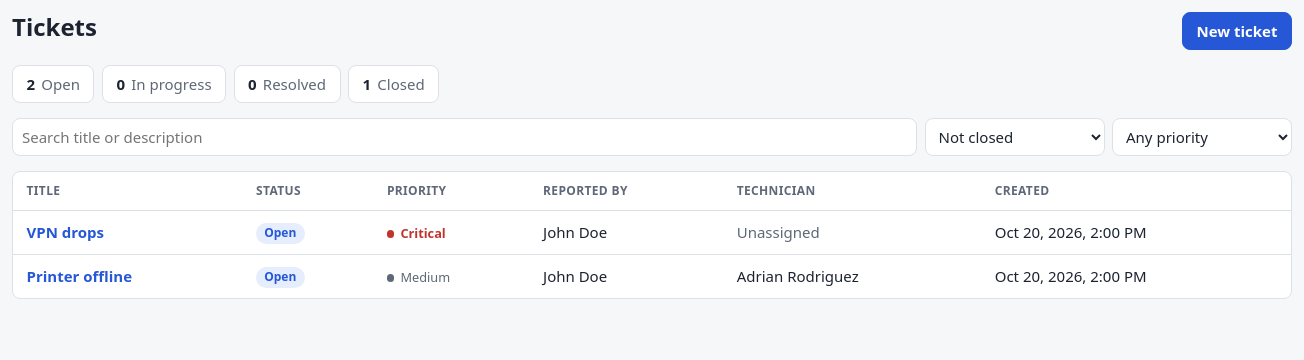
Test: TicketsPage › shows closed tickets when asked, and filters by search
The image size is (1304, 360).
Check: the link "VPN drops" is shown, box left=26, top=222, right=104, bottom=242
Select "Any status" in the dropdown named "Status" at (1014,137), box left=924, top=118, right=1104, bottom=156
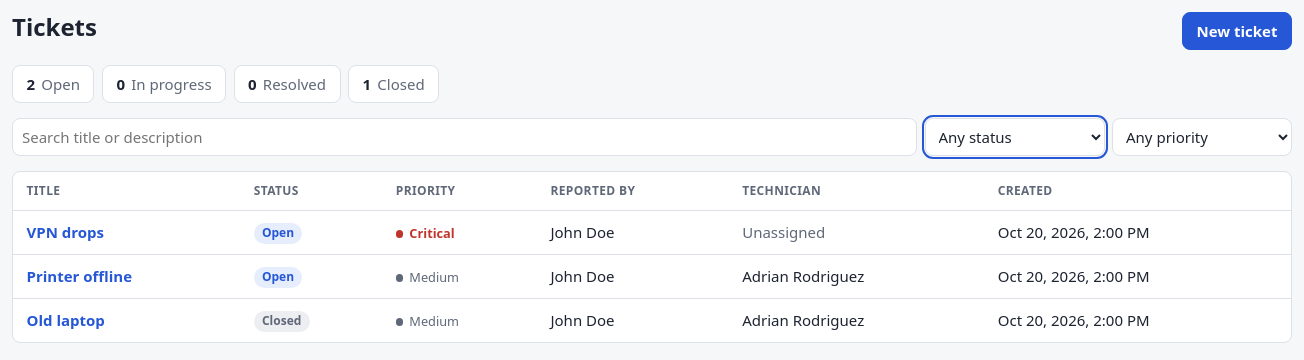
Check: the number of links is 3, box left=26, top=222, right=104, bottom=242; left=26, top=266, right=132, bottom=286; left=26, top=310, right=105, bottom=330
Type "every hour" into the search field named "Search tickets".
click(464, 137); type("every hour")  # box left=12, top=118, right=917, bottom=156
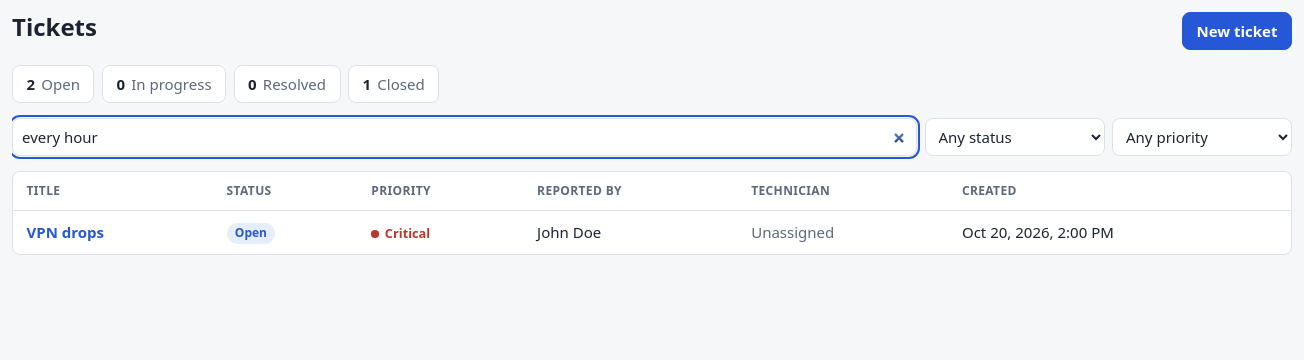
Replace the text in the search field named "Search tickets" with "nothing like this" at (464,137), box left=12, top=118, right=917, bottom=156
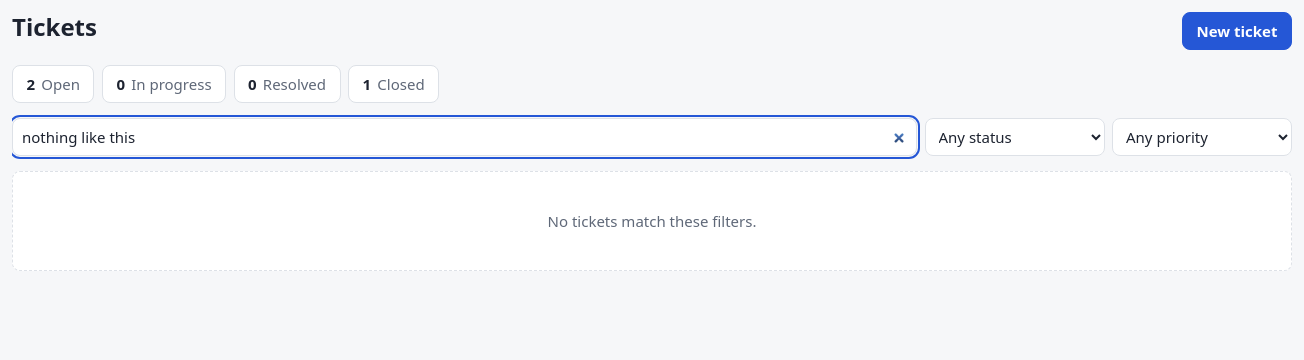
Check: the text "No tickets match these filters." is shown, box left=12, top=171, right=1292, bottom=270
